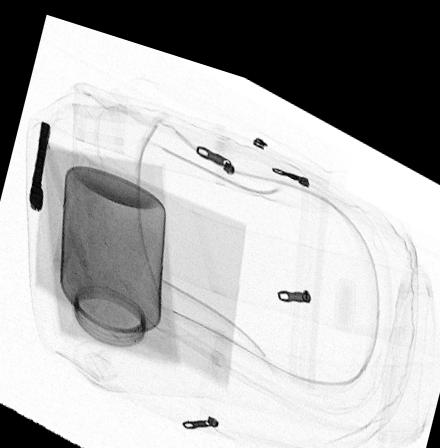Gun: (26, 116, 52, 212)
